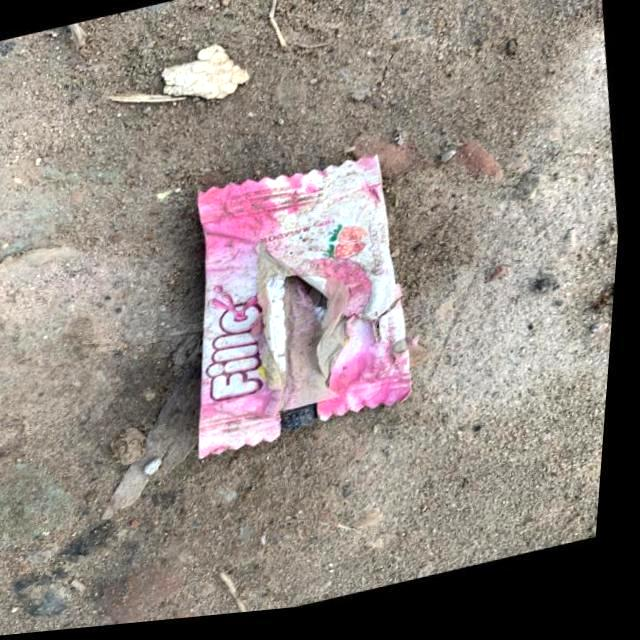packet: (174, 143, 439, 465)
